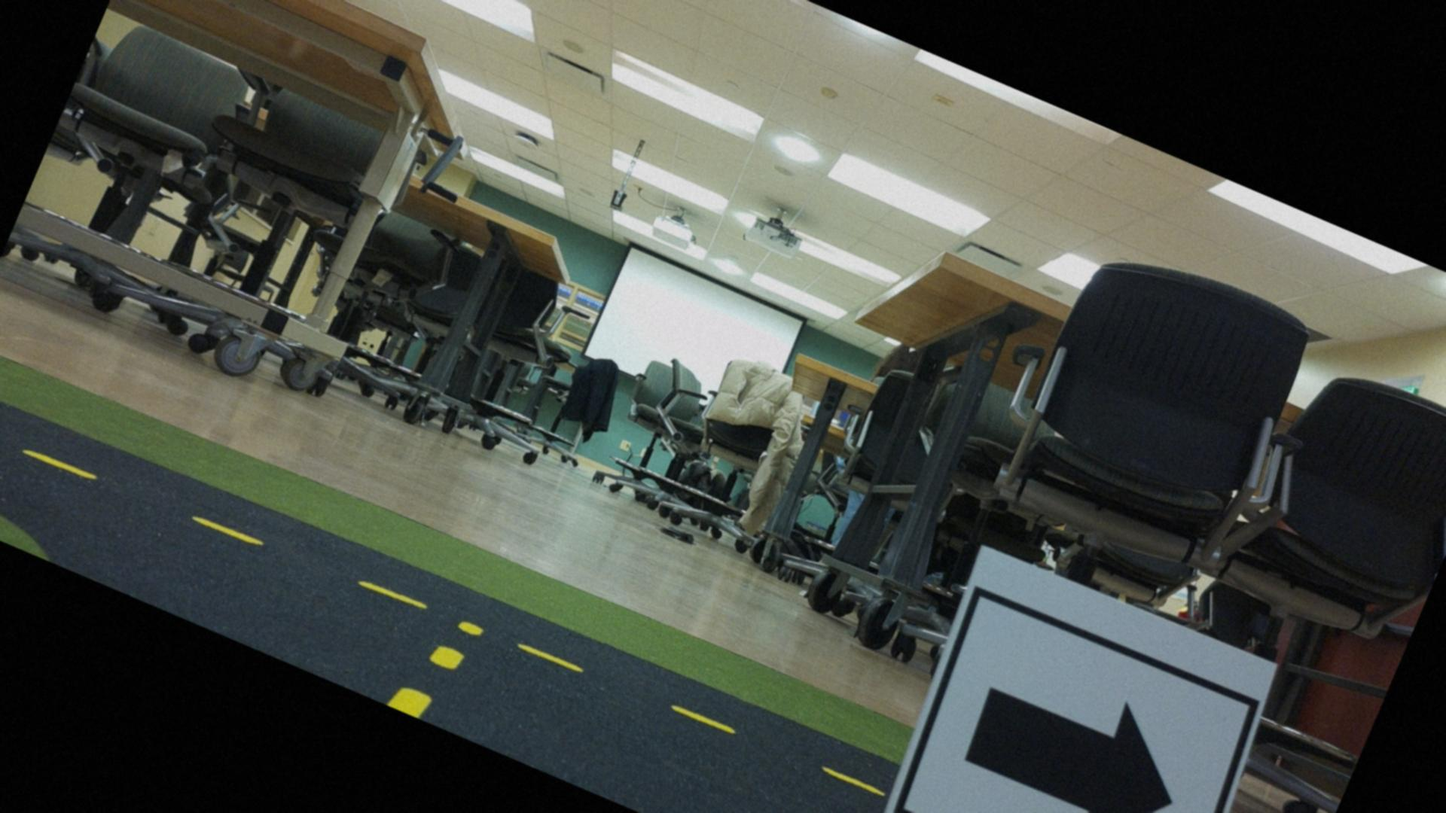turnleft: (862, 547, 1280, 812)
yellowline: (23, 425, 874, 809), (383, 630, 468, 726)
